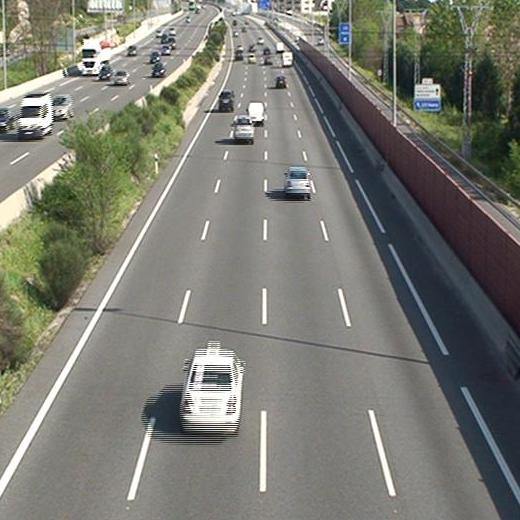car: (179, 353, 240, 434), (283, 166, 310, 195), (232, 116, 253, 140), (219, 90, 233, 111), (274, 75, 287, 88), (233, 49, 244, 60), (263, 54, 274, 64), (246, 53, 255, 63)
van: (247, 101, 264, 124), (281, 52, 293, 68)
